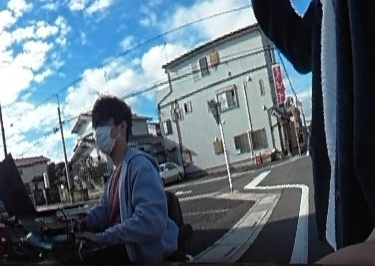person: (90, 94, 173, 266)
